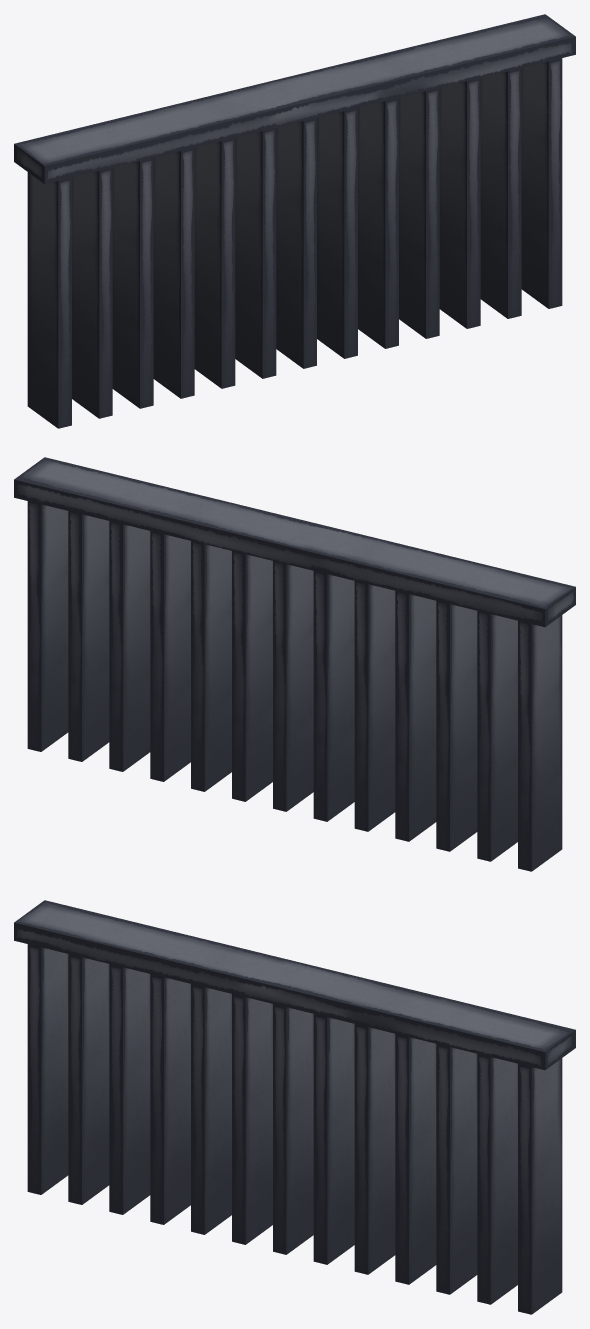
Rendered from WallOverWorld.fbx.
3 views of the same model, one above another, from view 1: azimuth 30°, elevation 25°; view 2: azimuth 150°, elevation 25°; view 3: azimuth 330°, elevation 25° (orthographic).
Visible parts, largest first — view 1: pPlane2; view 2: pPlane2; view 3: pPlane2.
Boxes of the visible parts, bbox=[...] form: pPlane2: bbox=[14, 14, 575, 428]; pPlane2: bbox=[14, 457, 575, 871]; pPlane2: bbox=[14, 900, 575, 1314].
Bounding box in the file's own units: 100 × 47.82 × 10.
